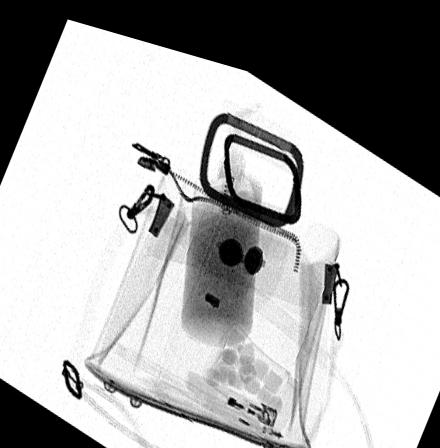Lighter: (181, 357, 277, 419)
